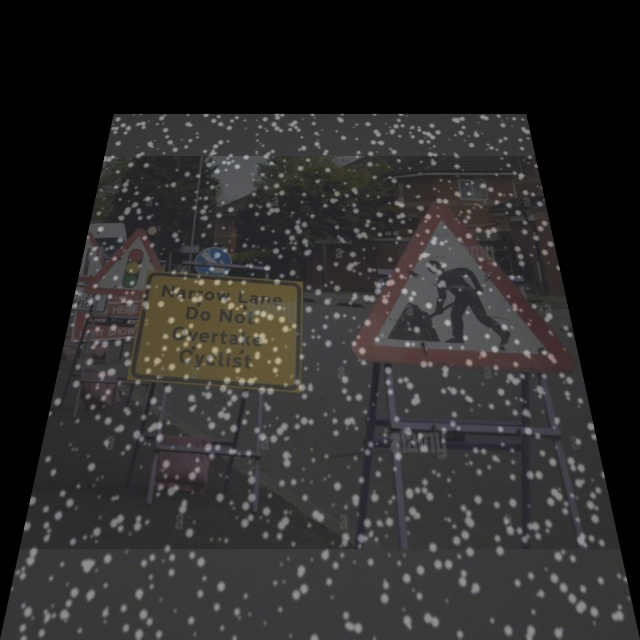Men_at_Work: (347, 191, 577, 375)
